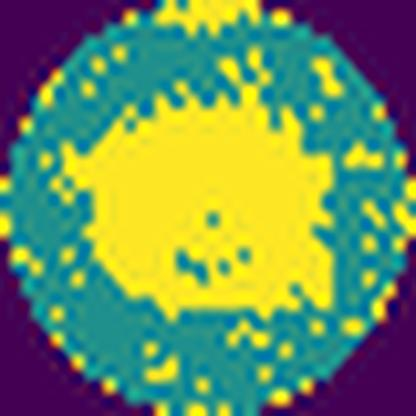Center: (58, 83, 332, 314)
